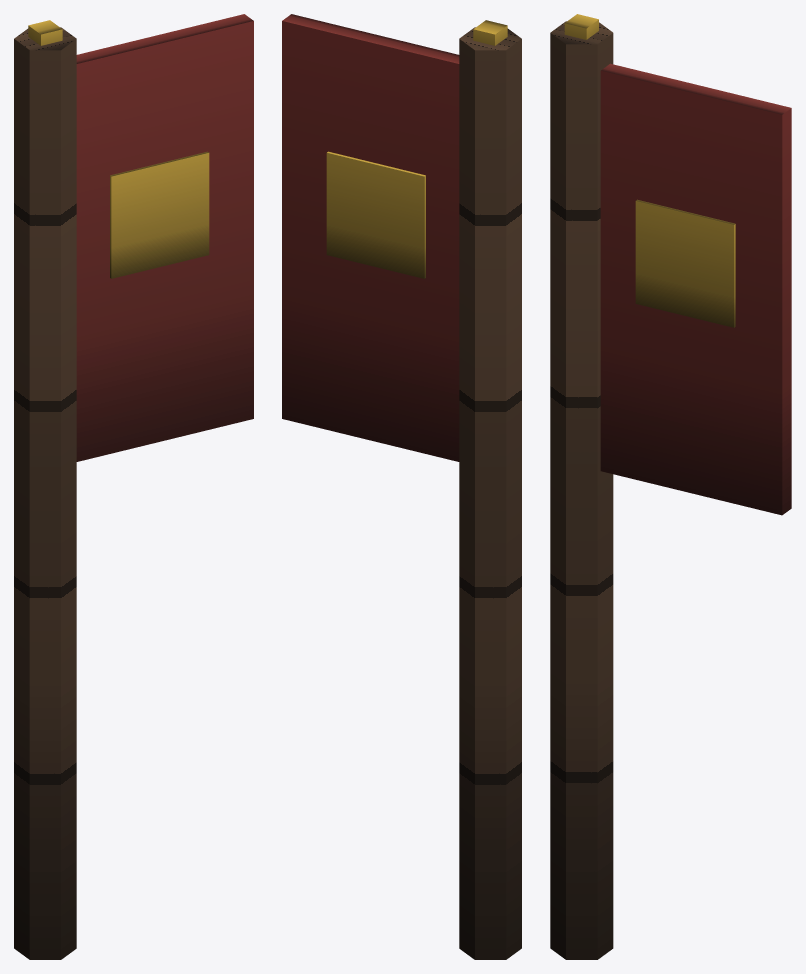
File: banner.gltf
The picture shows the model from 3 angles, left to right: view 1: azimuth 30°, elevation 25°; view 2: azimuth 150°, elevation 25°; view 3: azimuth 330°, elevation 25°; orthographic projection.
Parts seen in each view (by area): view 1: banner; view 2: banner; view 3: banner.
Part boxes in pixels (x1,y1,x2,y2): banner: [14, 14, 253, 959]; banner: [282, 14, 521, 959]; banner: [550, 14, 791, 959].
Bounding box in the file's own units: 0.4183 × 1.62 × 0.1.
1 material, 1 textured.
